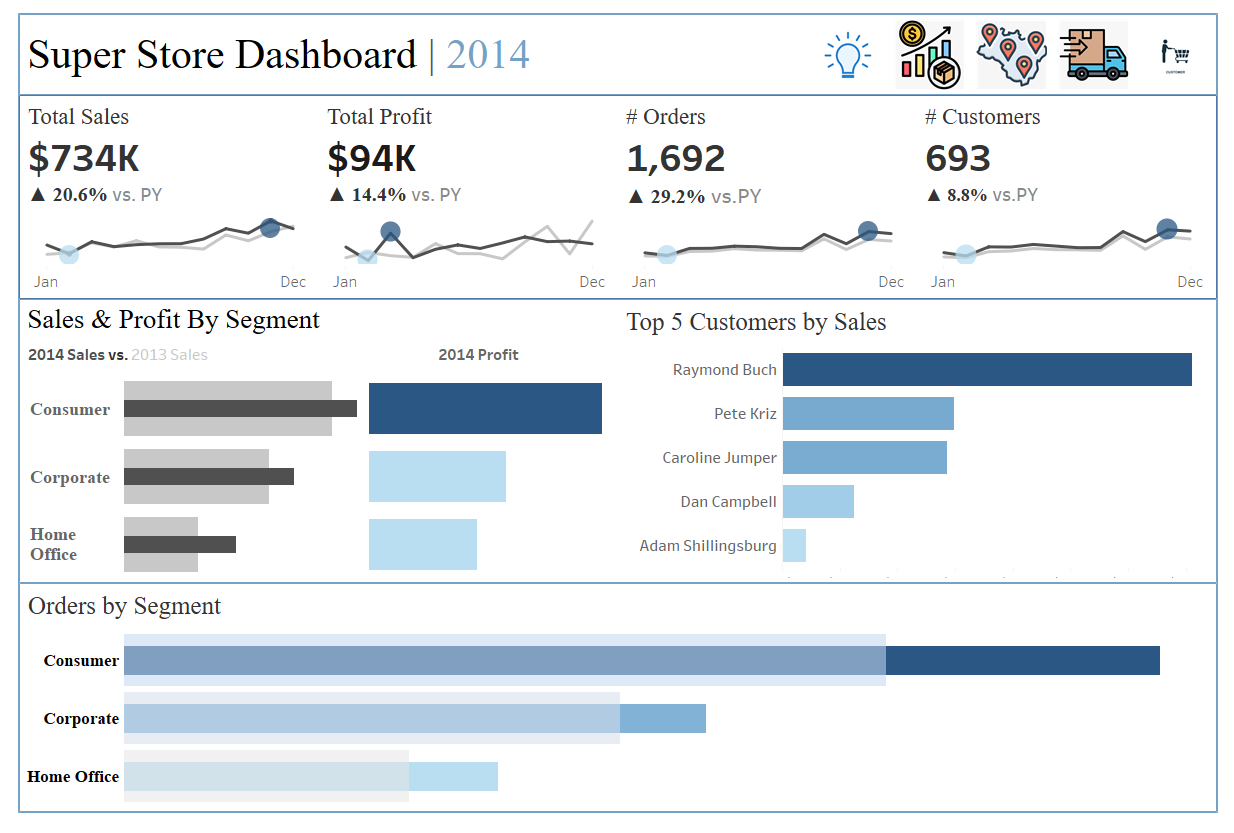

The dashboard page shown, as its layout file describes it:
{"tool":"tableau","page":{"name":"Super_Store_Dashboard 0","canvas":[1200,800],"ordinal":0},"visuals":[{"type":"text","box":[2,2,786,79]},{"type":"dashboard-object","box":[788,2,82,79]},{"type":"dashboard-object","box":[870,2,82,79]},{"type":"dashboard-object","box":[952,2,82,79]},{"type":"dashboard-object","box":[1034,2,82,79]},{"type":"dashboard-object","box":[1116,2,82,79]},{"type":"parameter","param":"[Parameters].[Order Year Parameter]","box":[564,15,154,35.9]},{"type":"legend","title":"Sales & Profit Over Time","param":"[federated.1f1h3uc1jm1pvb1bxfcov0sczj9y].[usr:Calculation_1391330877273645061:nk","box":[564,50.9,154,35.9]},{"type":"worksheet","title":"KPI Sales 0","mark":"Line","rows":["Sales","Min/Max Sales (copy)_3207407427292659714"],"cols":["Order Period"],"box":[2,83,299,237]},{"type":"worksheet","title":"KPI Profit 0","mark":"Line","rows":["Profit","Min/Max Sales 0 (copy)_3207407427297476611"],"cols":["Order Period"],"box":[301,83,299,237]},{"type":"worksheet","title":"KPI Orders 0 ","mark":"Automatic","rows":["Order ID","Min/Max Customers (copy)_3207407427299741704"],"cols":["Order Period"],"box":[600,83,299,237]},{"type":"worksheet","title":"KPI Customer 0","mark":"Line","rows":["Customer ID","Min/Max Order 0 (copy)_3207407427302547466"],"cols":["Order Period"],"box":[899,83,299,237]},{"type":"legend","title":"Sales & Profit Over Time","param":"[federated.1f1h3uc1jm1pvb1bxfcov0sczj9y].[usr:KPI Sales Avg (copy)_1391330877274","box":[564,86.7,154,35.9]},{"type":"legend","title":"KPI Sales 0","param":"[federated.1f1h3uc1jm1pvb1bxfcov0sczj9y].[usr:Min/Max Sales (copy)_3207407427292","box":[564,122.6,154,35.9]},{"type":"legend","title":"KPI Profit 0","param":"[federated.1f1h3uc1jm1pvb1bxfcov0sczj9y].[usr:Min/Max Sales 0 (copy)_32074074272","box":[564,158.4,154,35.9]},{"type":"legend","title":"KPI Customer 0","param":"[federated.1f1h3uc1jm1pvb1bxfcov0sczj9y].[usr:Min/Max Order 0 (copy)_32074074273","box":[564,194.3,154,35.9]},{"type":"legend","title":"KPI Orders 0 ","param":"[federated.1f1h3uc1jm1pvb1bxfcov0sczj9y].[usr:Min/Max Customers (copy)_320740742","box":[564,230.1,154,35.9]},{"type":"worksheet","title":"Sales & Profit Over Time","mark":"Line","rows":["Sales","Profit"],"cols":["Order Period"],"box":[2,322,1196,476]}]}

Visuals, with their boxes in screenshot pixels (x1, y1, x2, y2), scaled from the page's 1200x800 canvas onto the 1234x833 screenshot:
text: box(2, 2, 810, 84)
dashboard-object: box(810, 2, 895, 84)
dashboard-object: box(895, 2, 979, 84)
dashboard-object: box(979, 2, 1063, 84)
dashboard-object: box(1063, 2, 1148, 84)
dashboard-object: box(1148, 2, 1232, 84)
parameter: box(580, 16, 738, 53)
"Sales & Profit Over Time" legend: box(580, 53, 738, 90)
"KPI Sales 0" worksheet (Line marks): box(2, 86, 310, 333)
"KPI Profit 0" worksheet (Line marks): box(310, 86, 617, 333)
"KPI Orders 0 " worksheet: box(617, 86, 924, 333)
"KPI Customer 0" worksheet (Line marks): box(924, 86, 1232, 333)
"Sales & Profit Over Time" legend: box(580, 90, 738, 128)
"KPI Sales 0" legend: box(580, 128, 738, 165)
"KPI Profit 0" legend: box(580, 165, 738, 202)
"KPI Customer 0" legend: box(580, 202, 738, 240)
"KPI Orders 0 " legend: box(580, 240, 738, 277)
"Sales & Profit Over Time" worksheet (Line marks): box(2, 335, 1232, 831)
